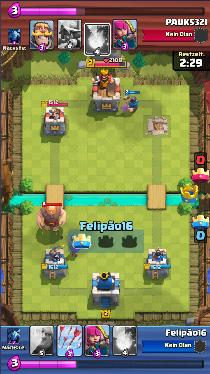ally_knight: (121, 95, 139, 111)
ally_musketeer: (67, 241, 80, 258)
enemy_giant: (36, 205, 67, 232)
